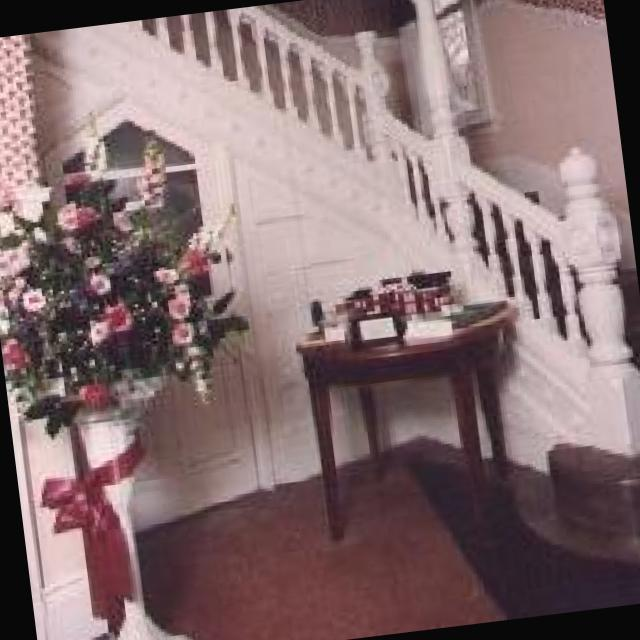plants: (0, 114, 265, 443)
pots: (21, 383, 200, 640)
table: (292, 294, 544, 546)
